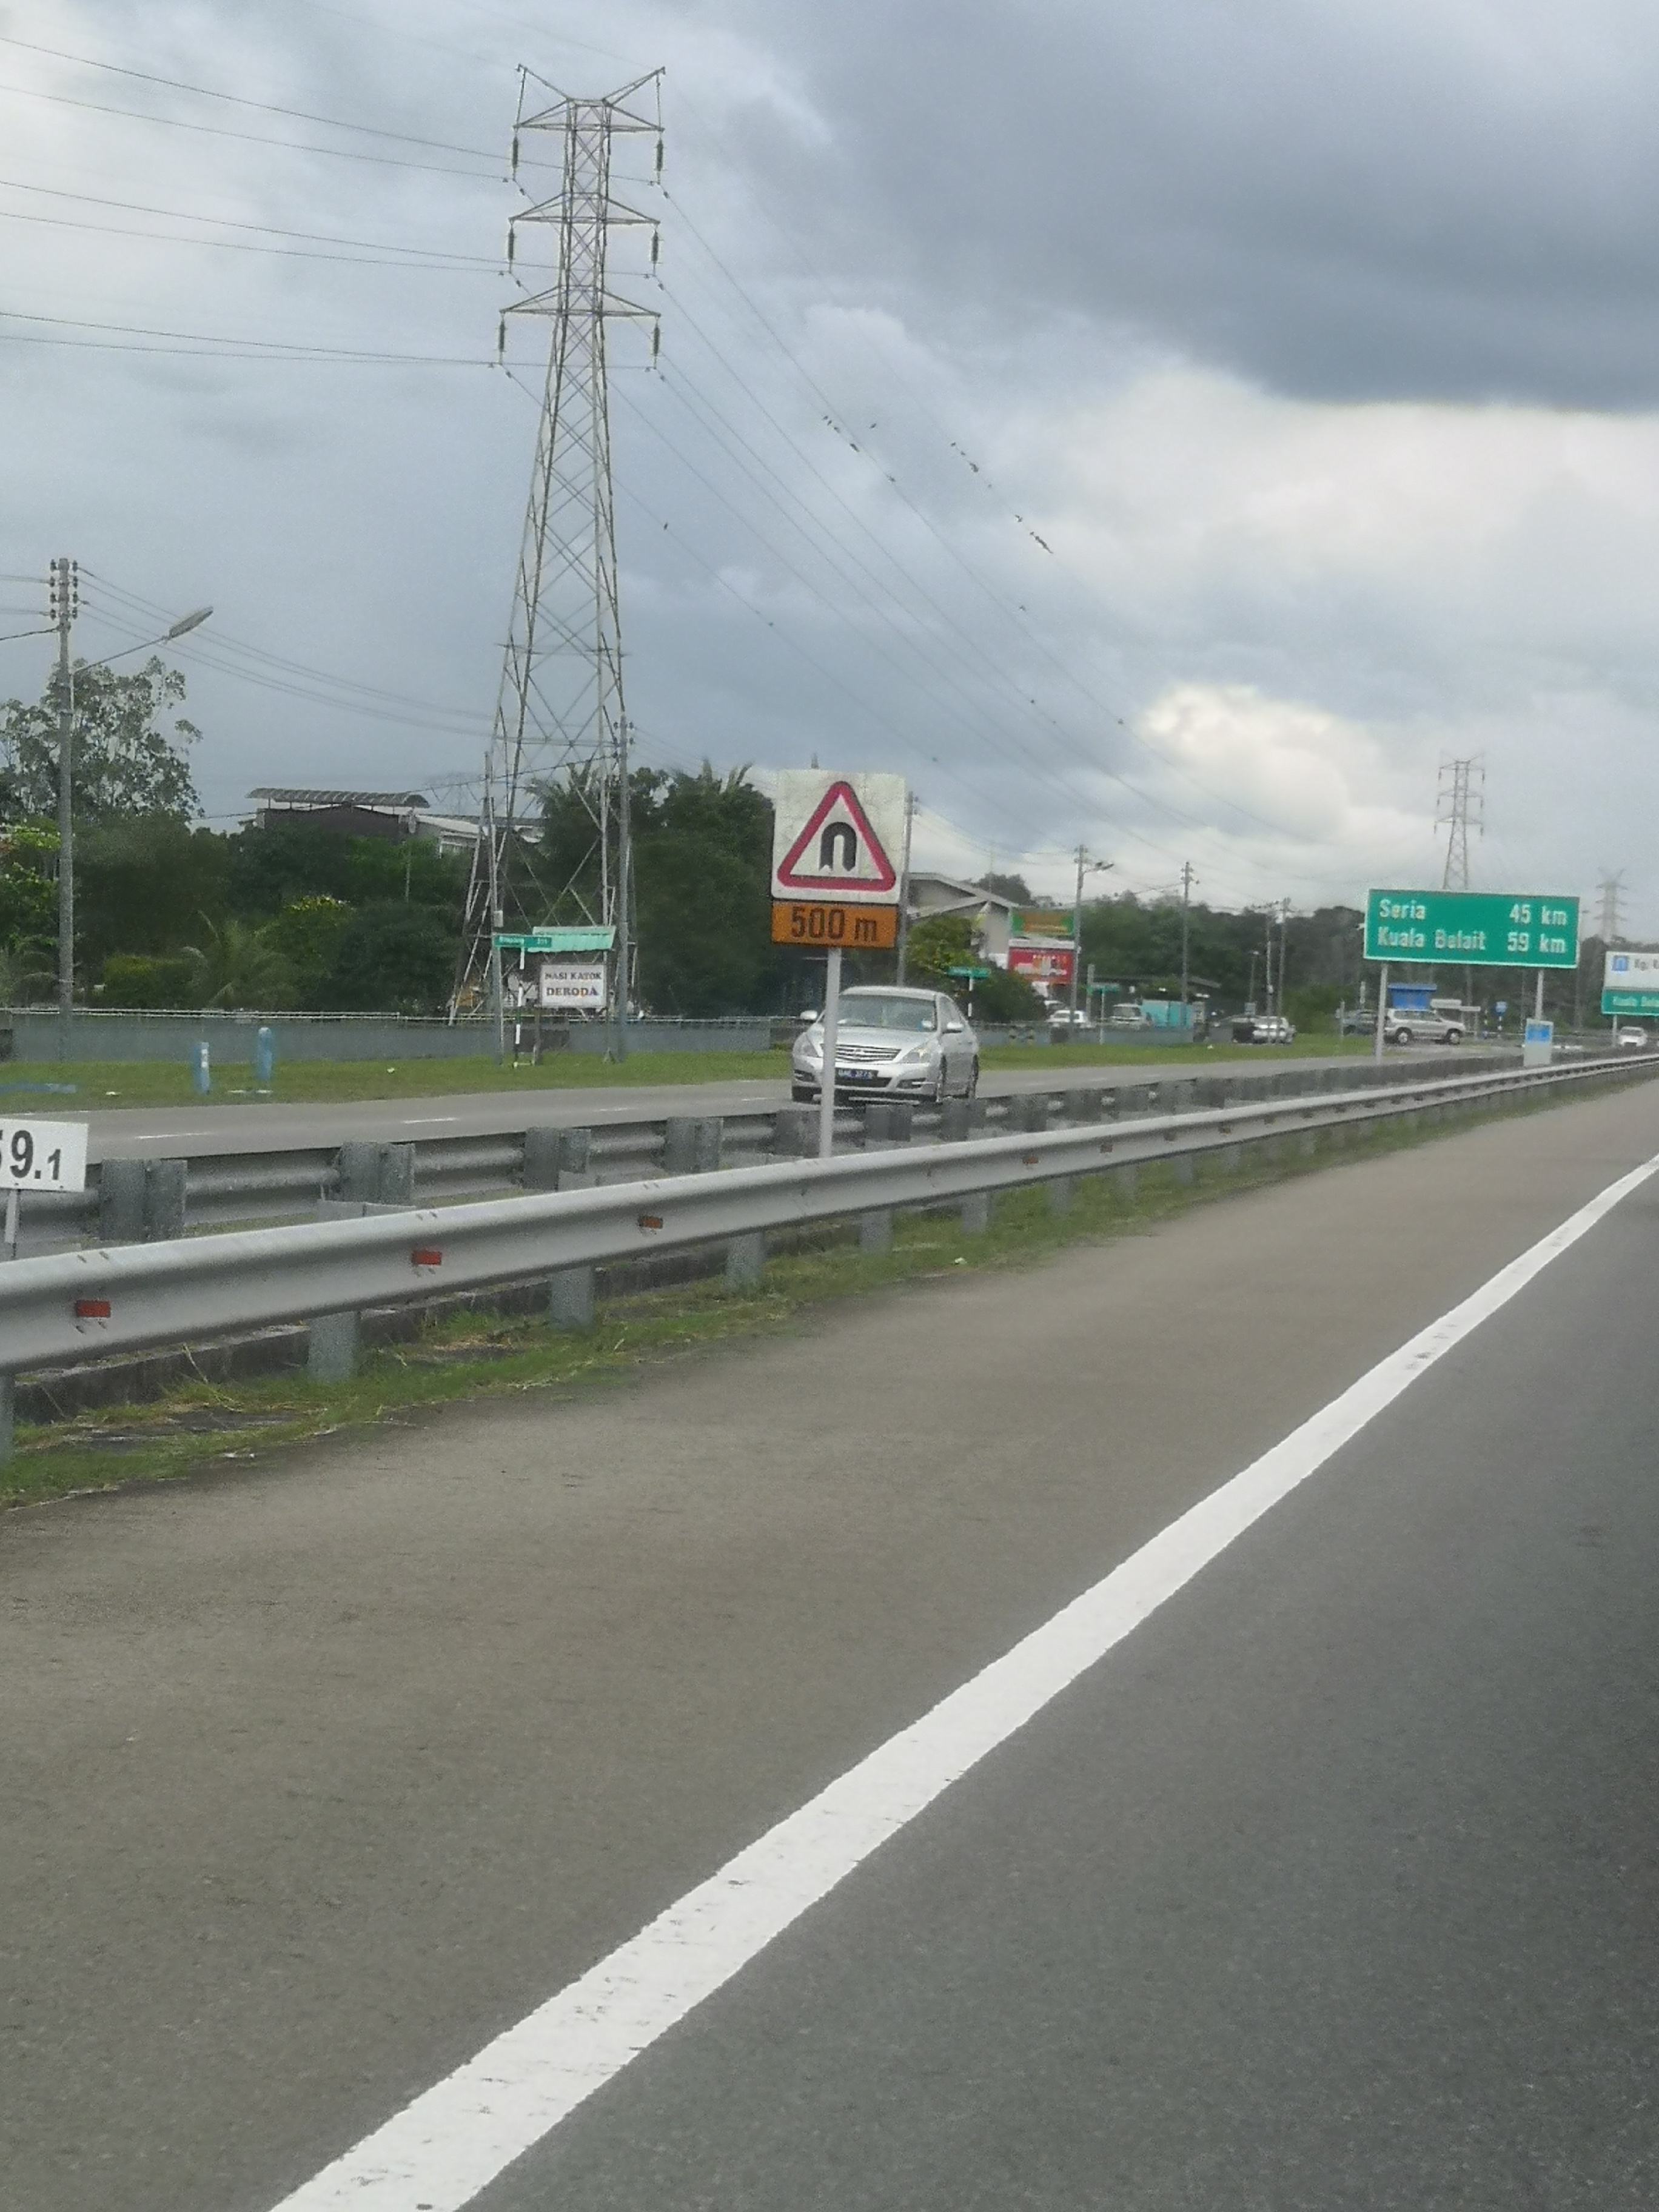U-turn: (767, 766, 903, 909)
